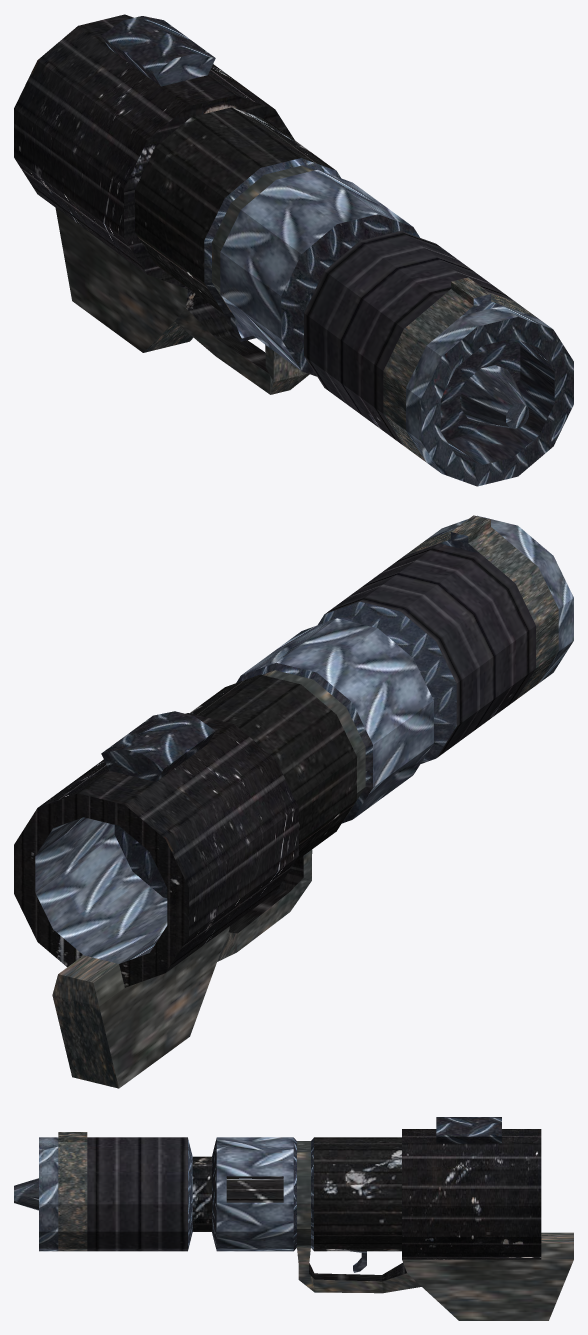
The model's file is RocketLauncher.fbx.
The picture shows the model from 3 angles, top to bottom: view 1: azimuth 30°, elevation 25°; view 2: azimuth 150°, elevation 25°; view 3: azimuth 270°, elevation 25°; orthographic projection. The views are drawn at different scales.
Parts seen in each view (by area): view 1: Launcher; view 2: Launcher; view 3: Launcher.
Boxes of the visible parts, bbox=[...] form: Launcher: bbox=[14, 14, 573, 486]; Launcher: bbox=[14, 515, 573, 1088]; Launcher: bbox=[14, 1117, 573, 1320].
Size of the model in its own units: 26.62 by 44.26 by 116.
3 materials, 3 textured.
